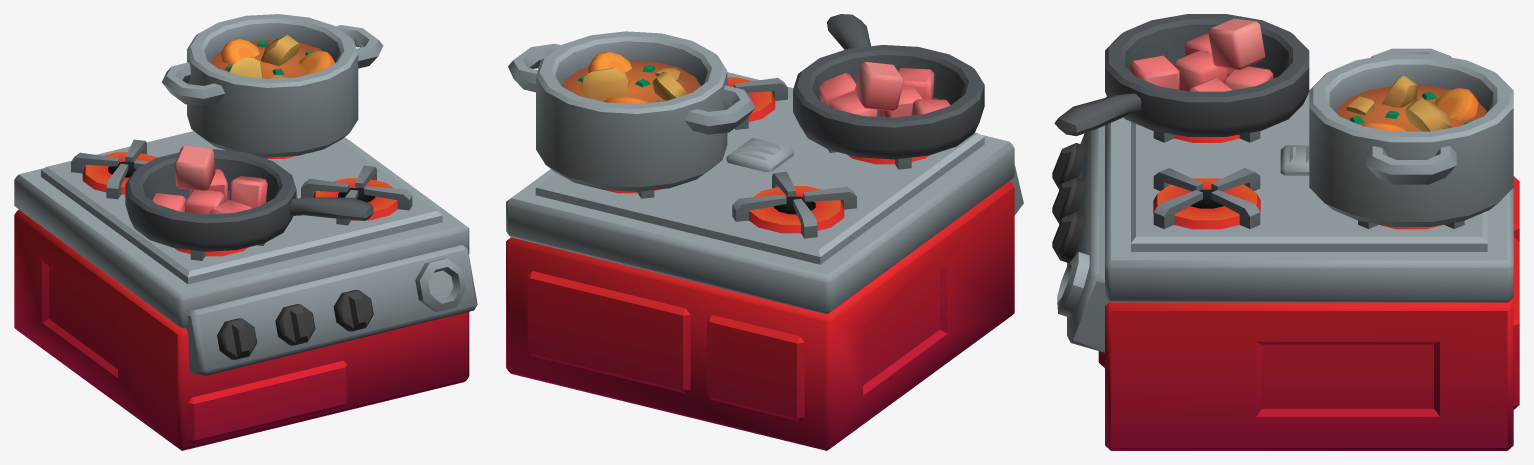
File: kaykit-restaurant-bits-stove-multi-decorated.glb
3 views of the same model, side by side, from view 1: azimuth 30°, elevation 25°; view 2: azimuth 150°, elevation 25°; view 3: azimuth 270°, elevation 25° (orthographic). The views are drawn at different scales.
Parts seen in each view (by area): view 1: stove_multi_decorated; view 2: stove_multi_decorated; view 3: stove_multi_decorated.
Boxes of the visible parts, x1=… form: stove_multi_decorated: x1=14, y1=14, x2=477, y2=450; stove_multi_decorated: x1=506, y1=14, x2=1023, y2=450; stove_multi_decorated: x1=1052, y1=14, x2=1519, y2=450.
Bounding box in the file's own units: 2.2 × 1.72 × 2.29.
Materials: 1 (1 with a texture image).
